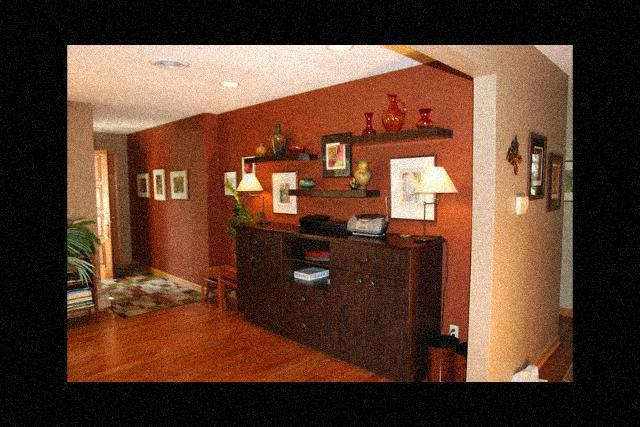Matera: (221, 182, 279, 273), (68, 217, 108, 339)
